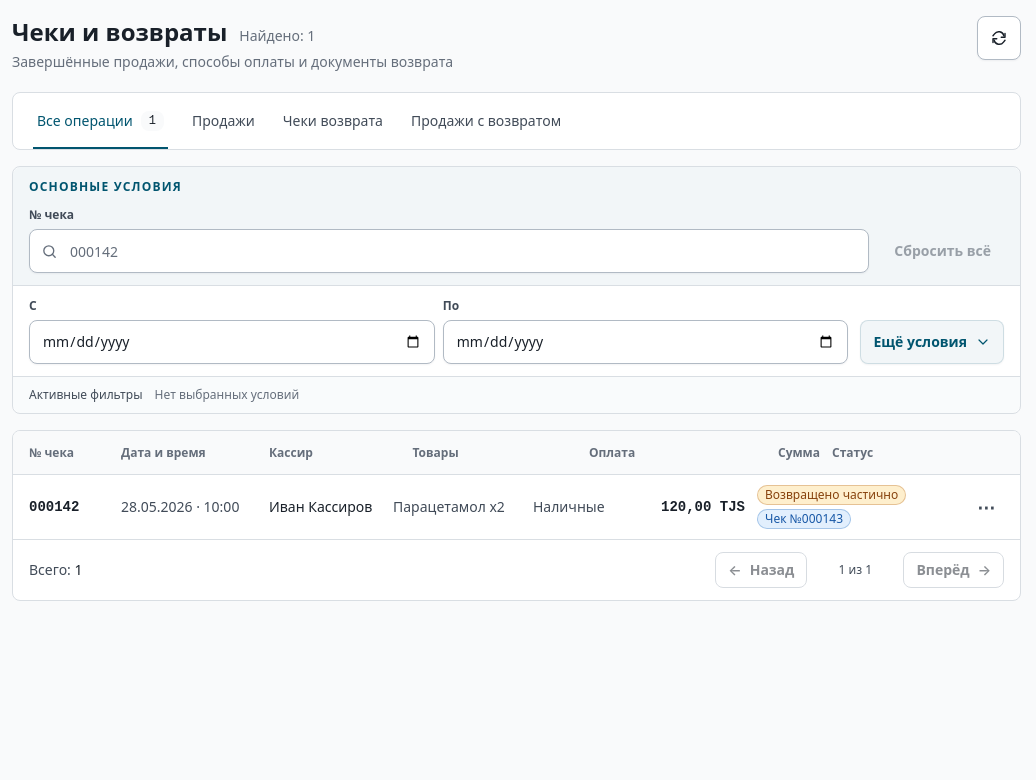
it: SalesPage › copies only the actual receipt number without loading or refunding a receipt
Right-click the button with aria-label "Открыть чек № 000142" at coordinates (54, 507), box [13, 475, 1020, 539]
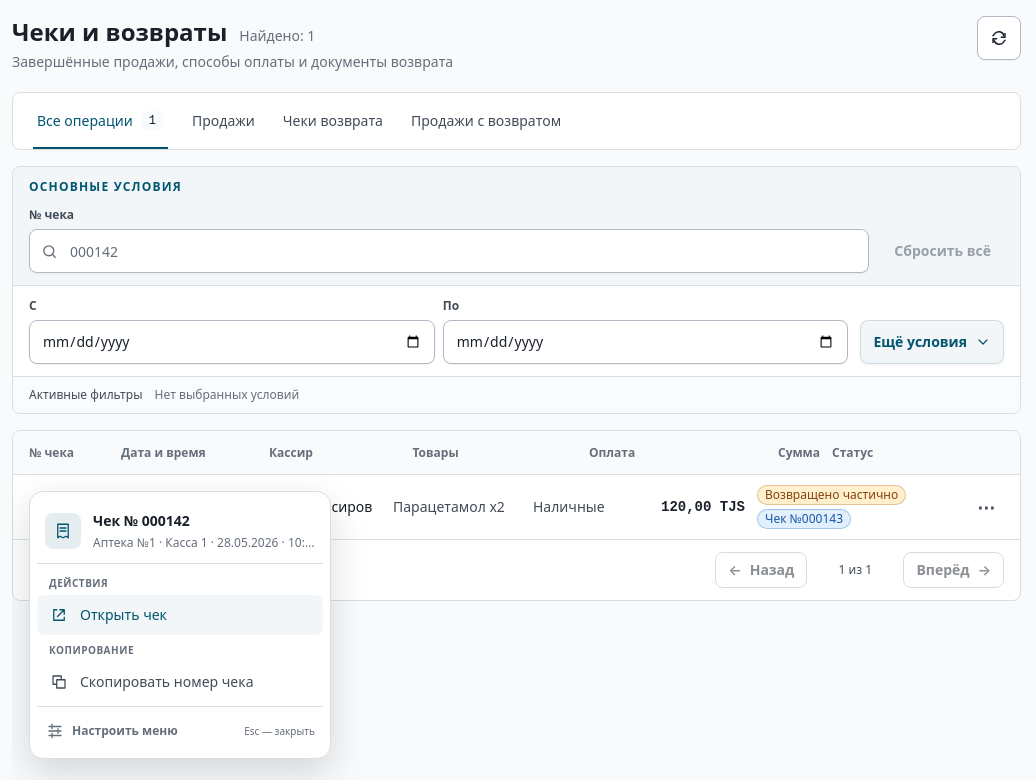
Click the menu item "Скопировать номер чека" at coordinates (180, 682), box [37, 662, 323, 702]
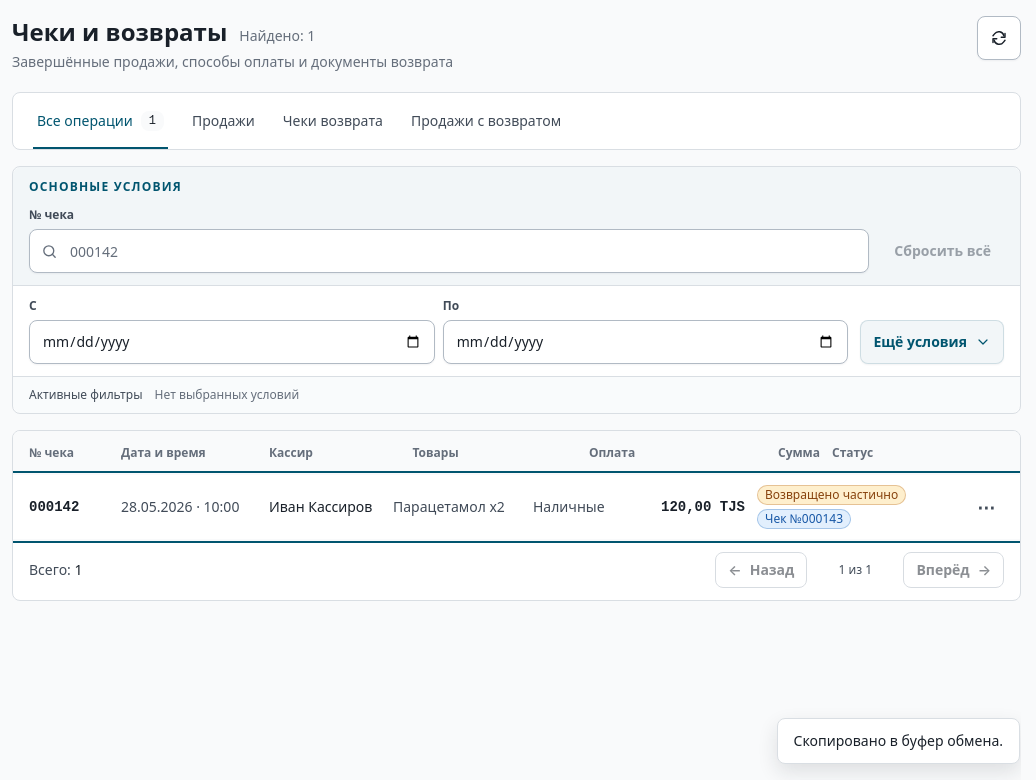
Expected: the message shows "Скопировано", [794, 731, 1003, 750]
